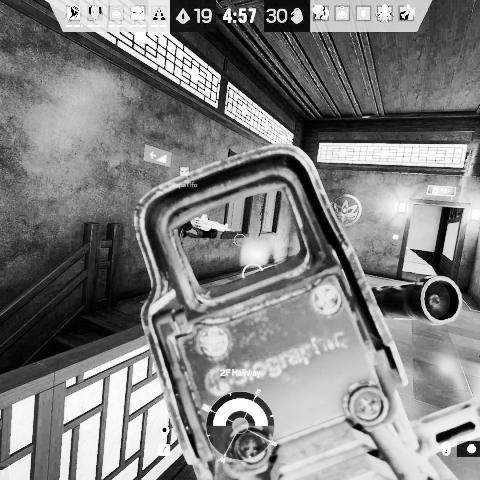Character: (177, 209, 231, 249)
Friend_label: (170, 166, 199, 190)
